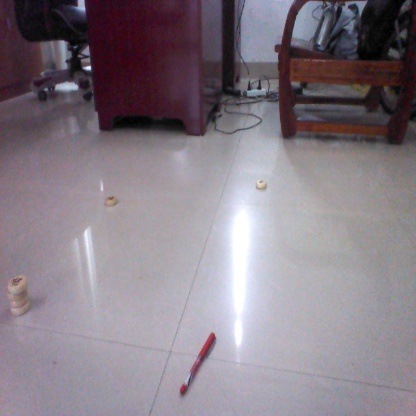chess: (8, 272, 29, 318), (251, 176, 272, 191), (103, 195, 120, 208)
pen: (178, 331, 217, 396)
